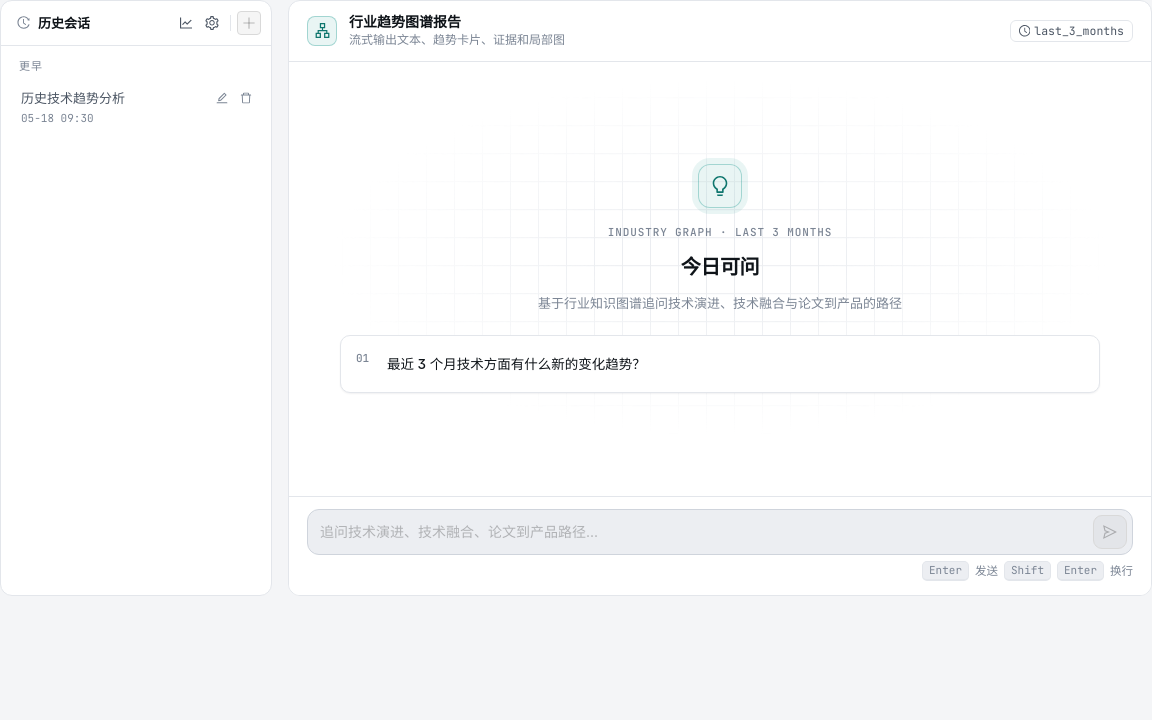
TechnologyEvolutionPage › runs incremental article extraction from the data preparation panel
Click the button named "数据准备设置" at (212, 23), box [200,11,224,35]
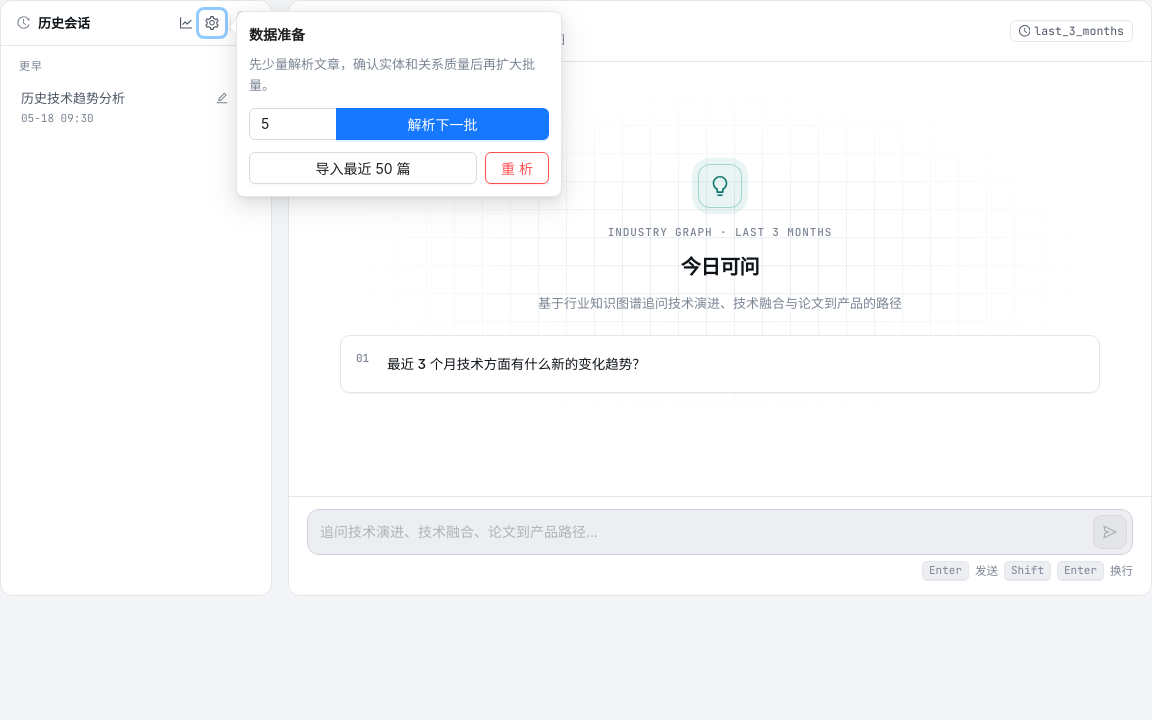
Result: the text "数据准备" is shown at [249,26,305,43]
Click the button "解析下一批" at (442, 124), box [336,108,549,140]
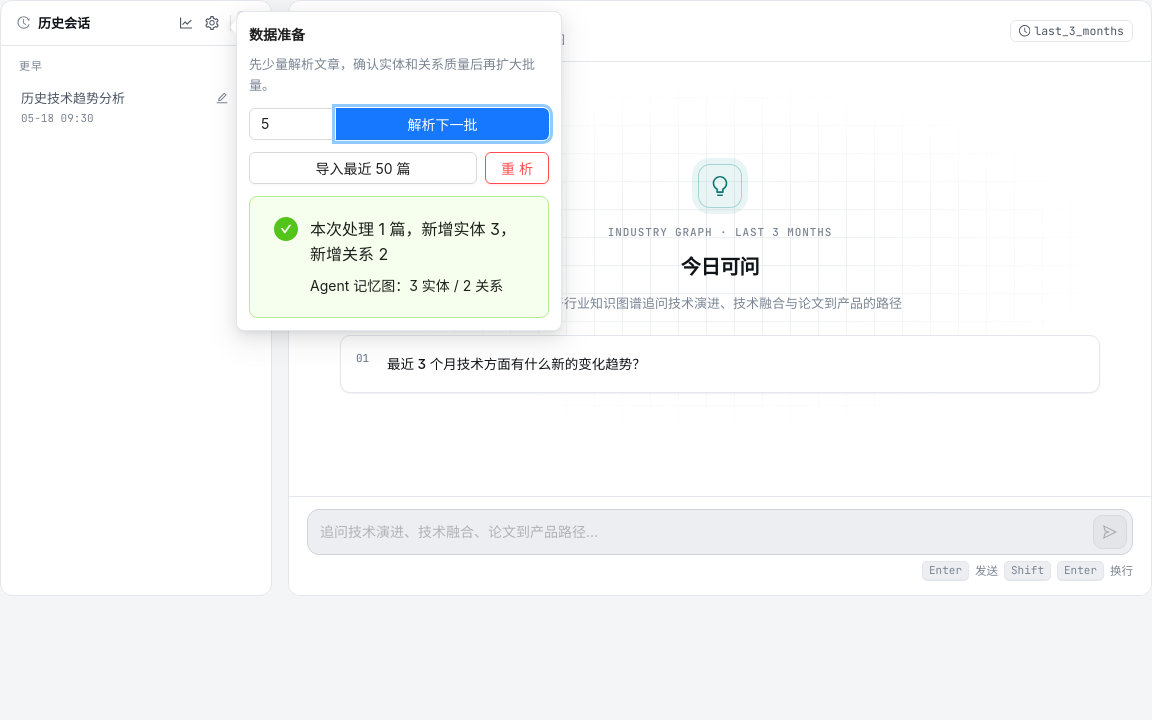
Result: the text "本次处理 1 篇，新增实体 3，新增关系 2" is shown at [310,217,524,267]
